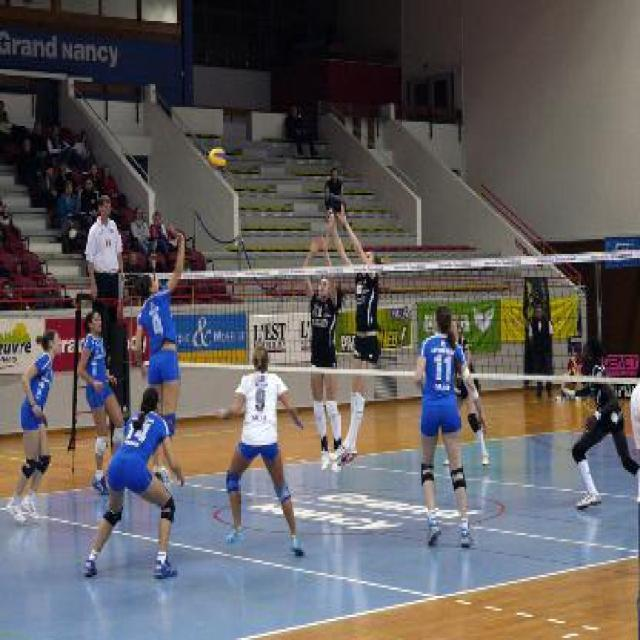volleyball: (208, 146, 230, 170)
